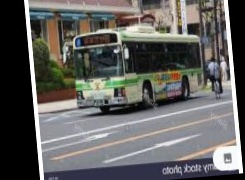bus: (71, 20, 206, 117)
